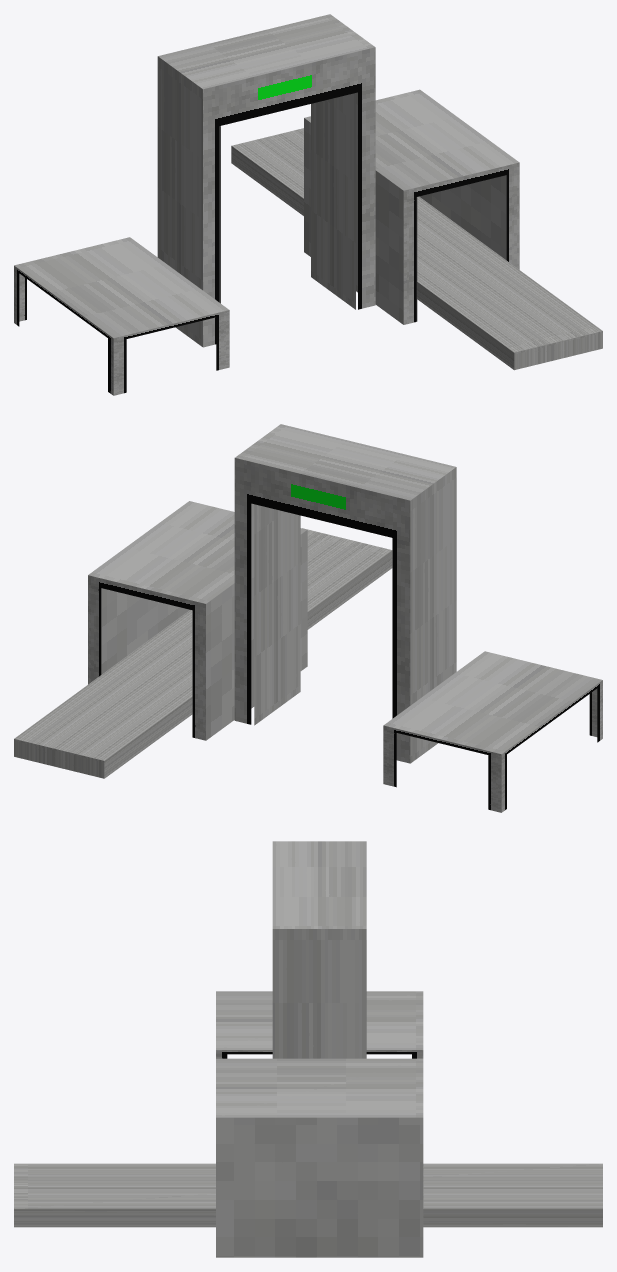
The model's file is Metaldetect.fbx.
The picture shows the model from 3 angles, top to bottom: view 1: azimuth 30°, elevation 25°; view 2: azimuth 150°, elevation 25°; view 3: azimuth 270°, elevation 25°; orthographic projection. The views are drawn at different scales.
Parts seen in each view (by area): view 1: Metaldetect; view 2: Metaldetect; view 3: Metaldetect.
Boxes of the visible parts, x1,y1,x2,y2 form: Metaldetect: (14, 14, 602, 395); Metaldetect: (14, 424, 602, 812); Metaldetect: (14, 841, 602, 1257).
Size of the model in its own units: 38.24 by 23.24 by 46.12.
Materials: 1 (1 with a texture image).
